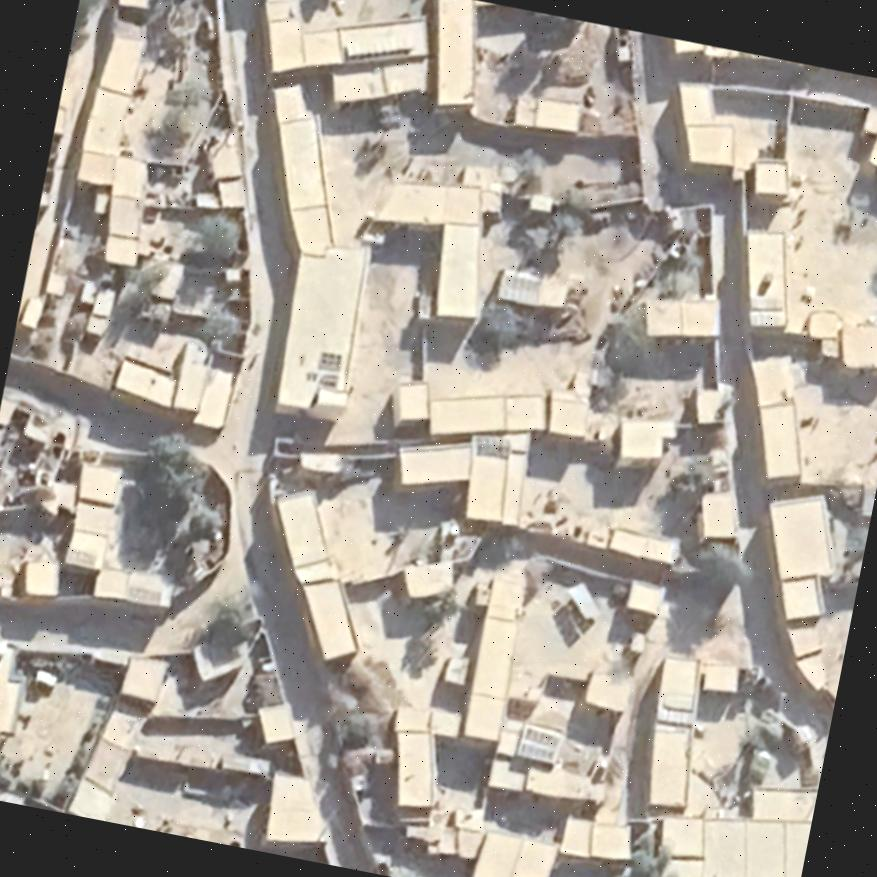Solarpanel: (509, 724, 562, 767), (561, 576, 603, 624), (491, 268, 544, 305), (651, 702, 696, 727), (748, 296, 784, 325), (469, 433, 511, 455), (312, 347, 342, 372)
